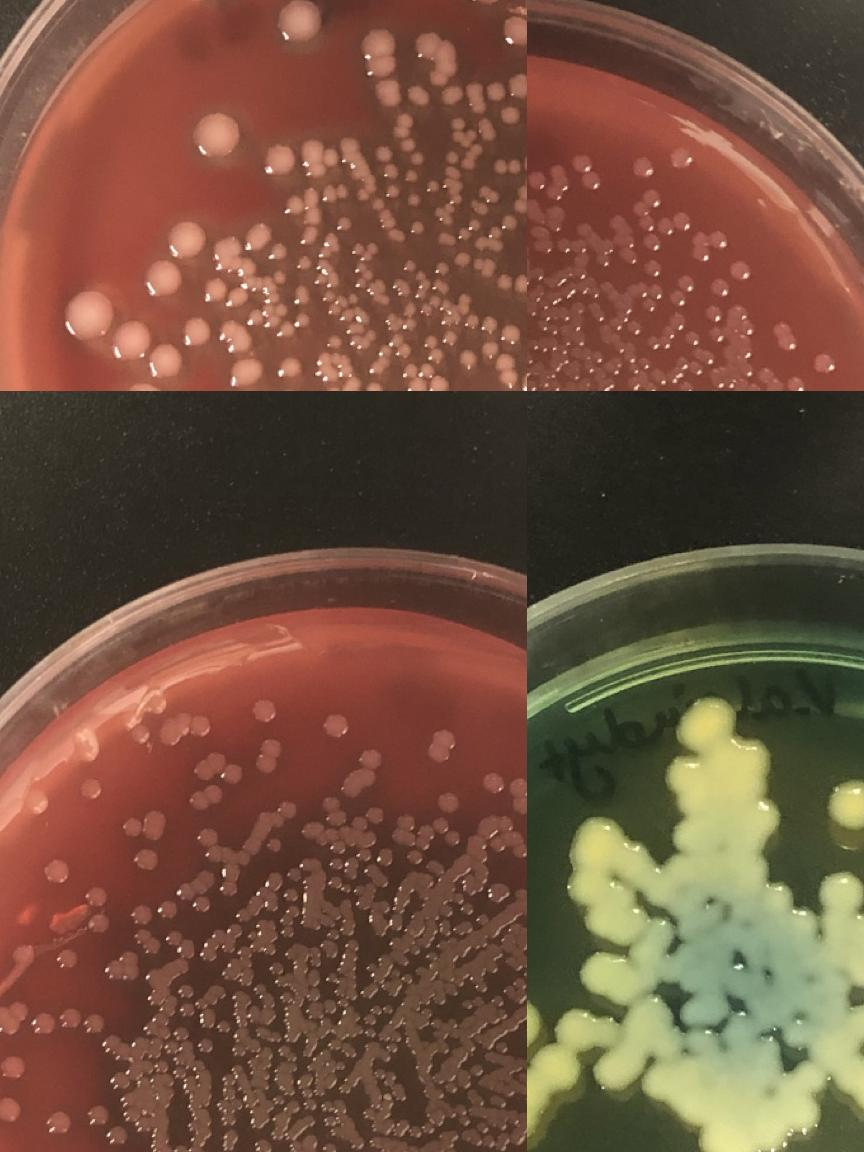pddamselae: (66, 291, 113, 337), (196, 113, 242, 159), (110, 320, 152, 362), (142, 258, 184, 300), (168, 217, 208, 259), (277, 0, 319, 40), (149, 344, 183, 380), (360, 24, 394, 60), (262, 142, 296, 174), (503, 13, 527, 46), (376, 145, 398, 180), (407, 376, 449, 391), (457, 347, 480, 372), (500, 322, 522, 346), (500, 104, 520, 126), (486, 80, 506, 102), (269, 243, 289, 264), (284, 196, 304, 216), (428, 348, 444, 366), (326, 334, 342, 352), (442, 330, 458, 348), (464, 313, 480, 331), (295, 312, 311, 330), (496, 273, 512, 291), (410, 220, 426, 238), (336, 216, 352, 234), (406, 191, 422, 209), (386, 184, 402, 202), (403, 167, 419, 185), (273, 270, 287, 284), (328, 302, 340, 316)
valgino: (581, 918, 726, 1060), (527, 1008, 620, 1137), (566, 815, 650, 903), (680, 698, 768, 782), (776, 1061, 824, 1131), (701, 1113, 785, 1152), (821, 872, 863, 936), (827, 776, 864, 846), (666, 754, 708, 800), (724, 1014, 758, 1046), (672, 822, 706, 854), (642, 1068, 674, 1100), (593, 1056, 625, 1088), (783, 1017, 815, 1049), (724, 967, 756, 999), (584, 902, 616, 934), (760, 882, 792, 914), (737, 856, 769, 888), (748, 801, 780, 833), (784, 910, 816, 941), (527, 996, 540, 1054), (847, 955, 864, 987)
vangil: (405, 816, 462, 867), (176, 868, 216, 916), (110, 1056, 156, 1092), (159, 714, 210, 746), (193, 752, 242, 785), (216, 1072, 244, 1126), (122, 810, 166, 842), (571, 153, 602, 190), (105, 949, 140, 981), (164, 928, 197, 960), (354, 748, 380, 788), (0, 1093, 23, 1138), (351, 806, 387, 832), (189, 785, 225, 811), (153, 1021, 192, 1044), (256, 739, 281, 774), (133, 928, 163, 957), (104, 1034, 134, 1062), (0, 1002, 27, 1033), (176, 981, 196, 1022), (430, 730, 455, 762), (774, 322, 797, 352), (511, 777, 527, 814), (328, 840, 346, 872), (200, 936, 220, 964), (508, 832, 527, 860), (46, 1112, 70, 1134), (324, 714, 348, 736), (814, 353, 834, 374), (643, 258, 663, 278), (690, 244, 710, 264), (643, 188, 663, 208), (634, 158, 654, 178), (670, 150, 690, 170), (106, 1127, 126, 1147), (444, 1104, 469, 1120), (88, 1104, 108, 1124), (196, 1036, 216, 1056), (214, 1017, 234, 1037), (86, 1014, 106, 1034), (34, 1014, 54, 1034), (231, 990, 251, 1010), (89, 914, 109, 934), (219, 879, 239, 899), (265, 871, 285, 891), (47, 862, 67, 882), (135, 850, 155, 870), (376, 846, 396, 866), (196, 829, 216, 849), (398, 812, 418, 832), (278, 800, 298, 820), (437, 792, 457, 812), (132, 725, 152, 745), (255, 701, 275, 721), (145, 690, 165, 710), (302, 1088, 318, 1112), (709, 230, 729, 249), (3, 1058, 22, 1078), (61, 1008, 80, 1028), (158, 900, 177, 920), (81, 780, 100, 800), (731, 262, 751, 280), (674, 212, 692, 232), (527, 170, 545, 190), (305, 967, 323, 987), (58, 948, 76, 968), (132, 906, 152, 924), (86, 888, 106, 906), (282, 885, 300, 905), (266, 834, 284, 854), (26, 796, 46, 814), (490, 882, 506, 903), (700, 348, 718, 366), (683, 329, 701, 347), (669, 312, 687, 330), (728, 305, 746, 323), (705, 304, 723, 322), (175, 1143, 211, 1152), (322, 796, 340, 814), (485, 774, 502, 792), (786, 376, 806, 391), (253, 1137, 273, 1152), (437, 903, 454, 920), (494, 1038, 510, 1056), (228, 921, 244, 939), (475, 910, 491, 928), (357, 846, 373, 864), (625, 375, 642, 391), (427, 859, 443, 876), (267, 960, 283, 976), (484, 958, 500, 974), (328, 874, 344, 890), (287, 866, 303, 882), (497, 816, 513, 832), (511, 976, 526, 992), (458, 918, 474, 933), (450, 890, 466, 905), (315, 1141, 336, 1152), (490, 838, 505, 853), (224, 1130, 238, 1144), (476, 1120, 490, 1134), (339, 1081, 353, 1095), (447, 1082, 460, 1096), (471, 1062, 484, 1076), (678, 381, 695, 391), (408, 1126, 422, 1138), (274, 1094, 286, 1106)
